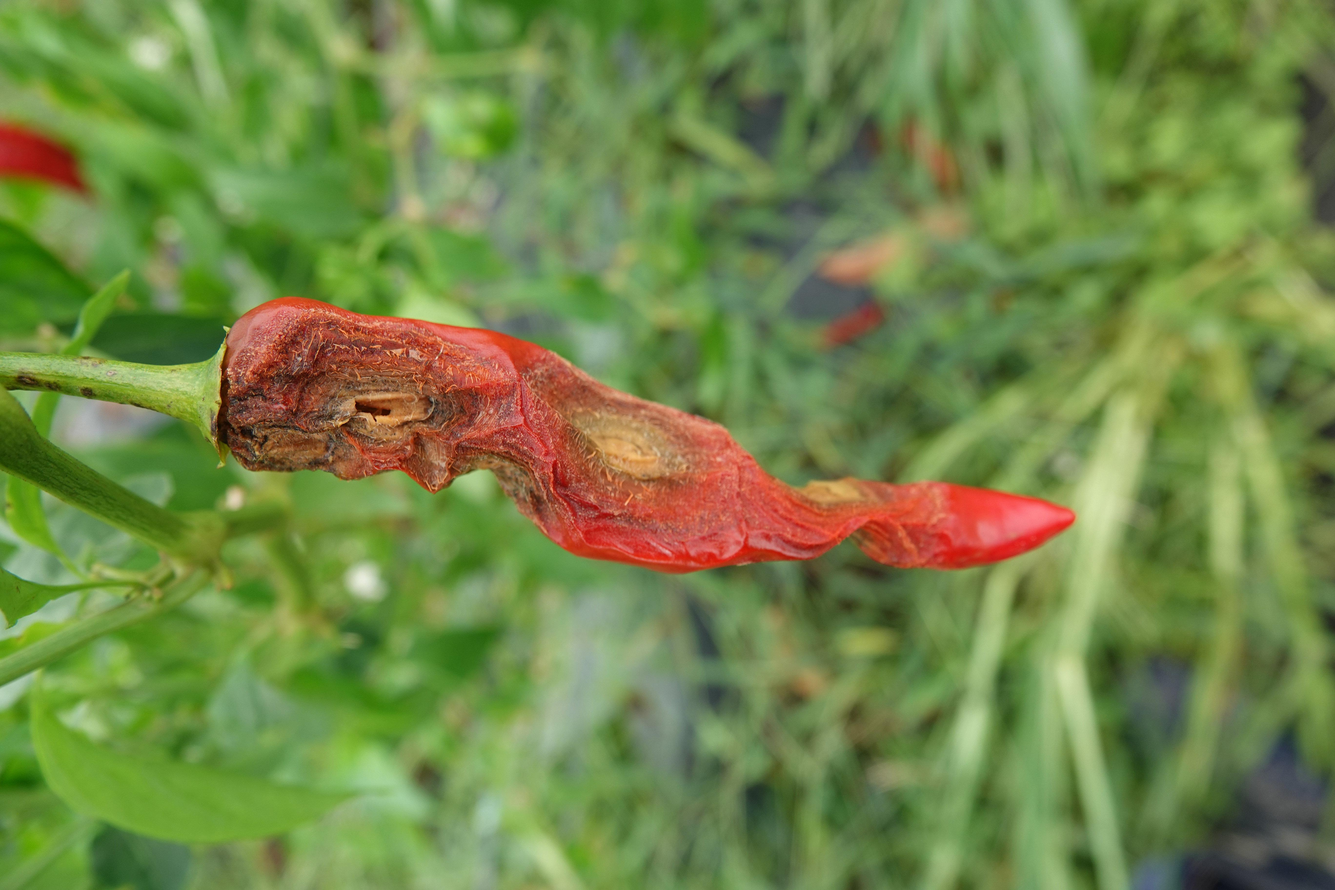Busuk Buah Antraknosa: (211, 293, 1078, 577)
